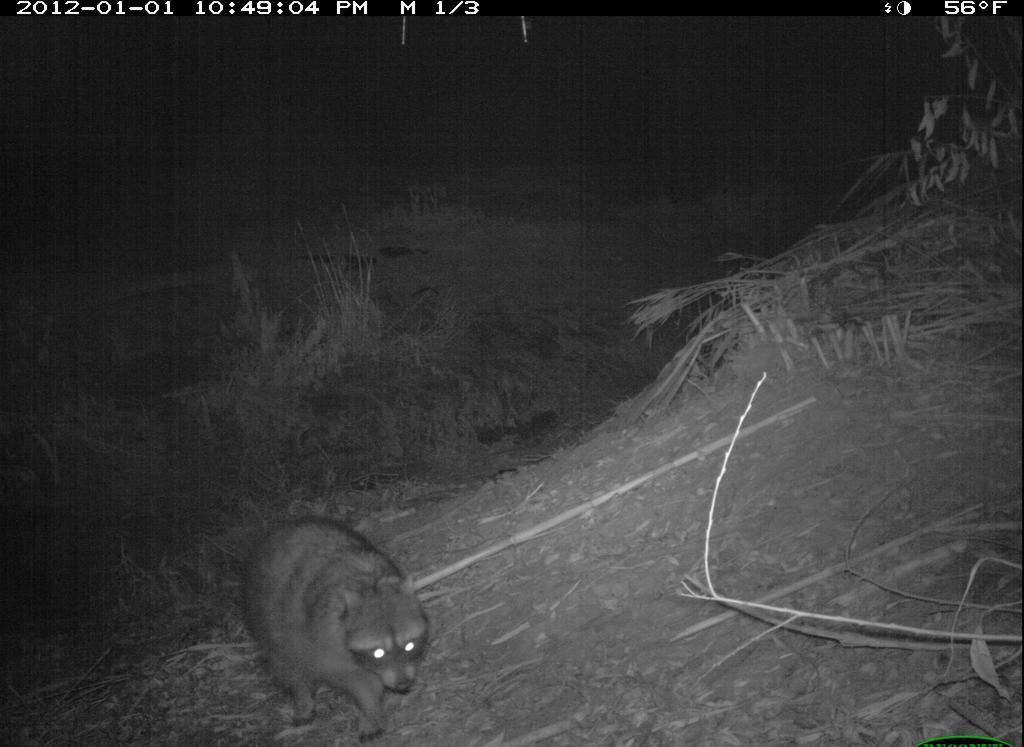raccoon: (240, 515, 449, 742)
